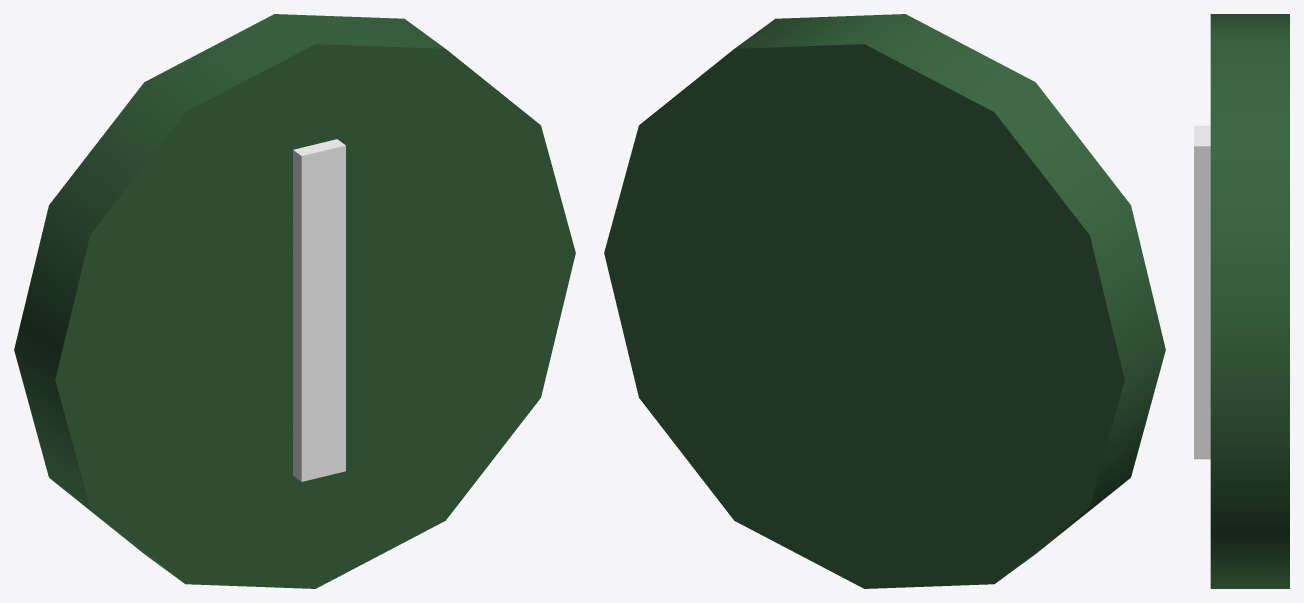
Rendered from VCB_BUT2.fbx.
3 views of the same model, side by side, from view 1: azimuth 30°, elevation 25°; view 2: azimuth 150°, elevation 25°; view 3: azimuth 270°, elevation 25° (orthographic). The views are drawn at different scales.
Parts seen in each view (by area): view 1: VCB_BUT2; view 2: VCB_BUT2; view 3: VCB_BUT2.
Boxes of the visible parts, box(x1,y1,x2,y2) form: VCB_BUT2: box(14, 14, 575, 588); VCB_BUT2: box(604, 14, 1165, 588); VCB_BUT2: box(1194, 14, 1289, 588).
Size of the model in its own units: 0.0204 by 0.0204 by 0.00338.
Materials: 1 (1 with a texture image).
